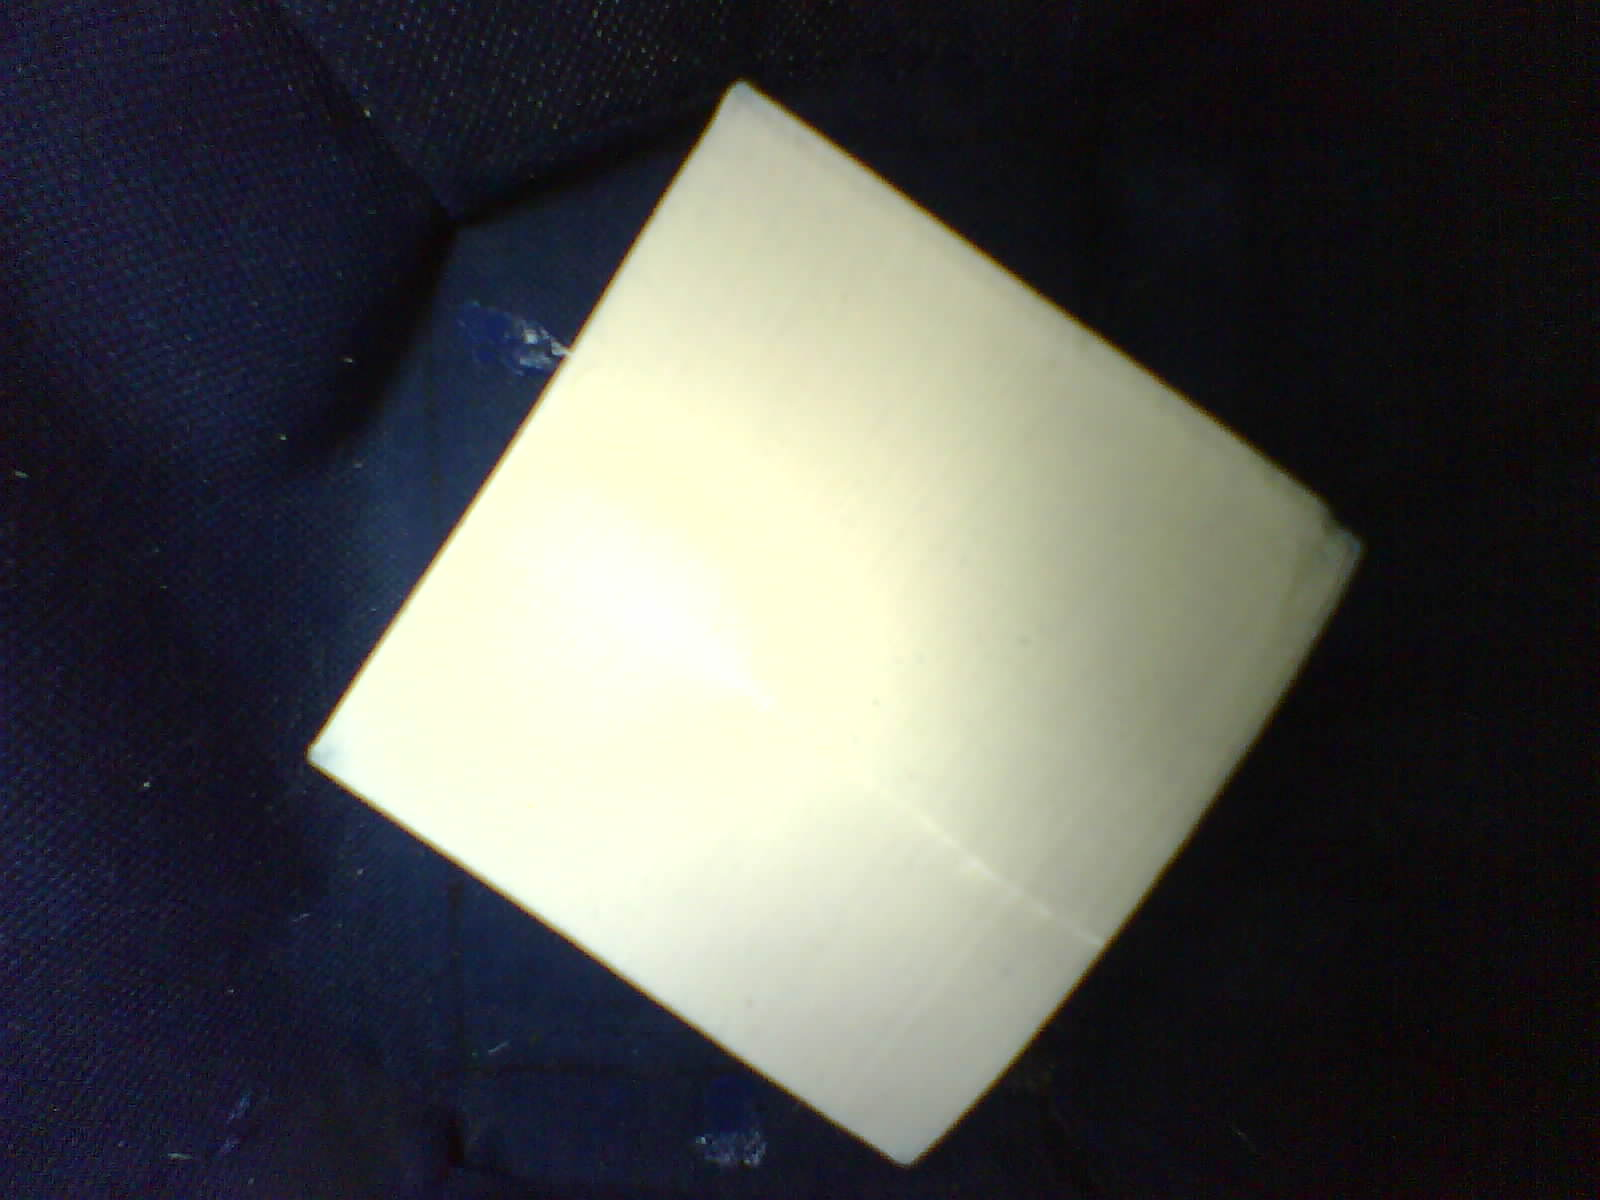cube-hard: (263, 69, 1367, 1176)
